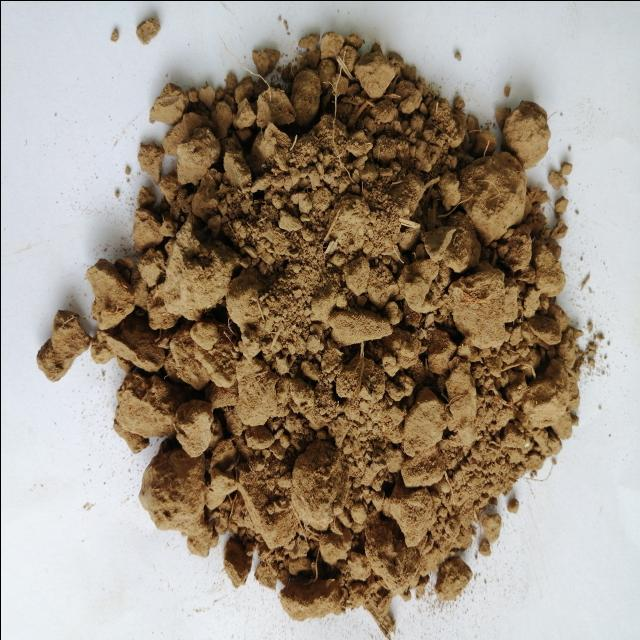soil: (158, 109, 526, 535)
